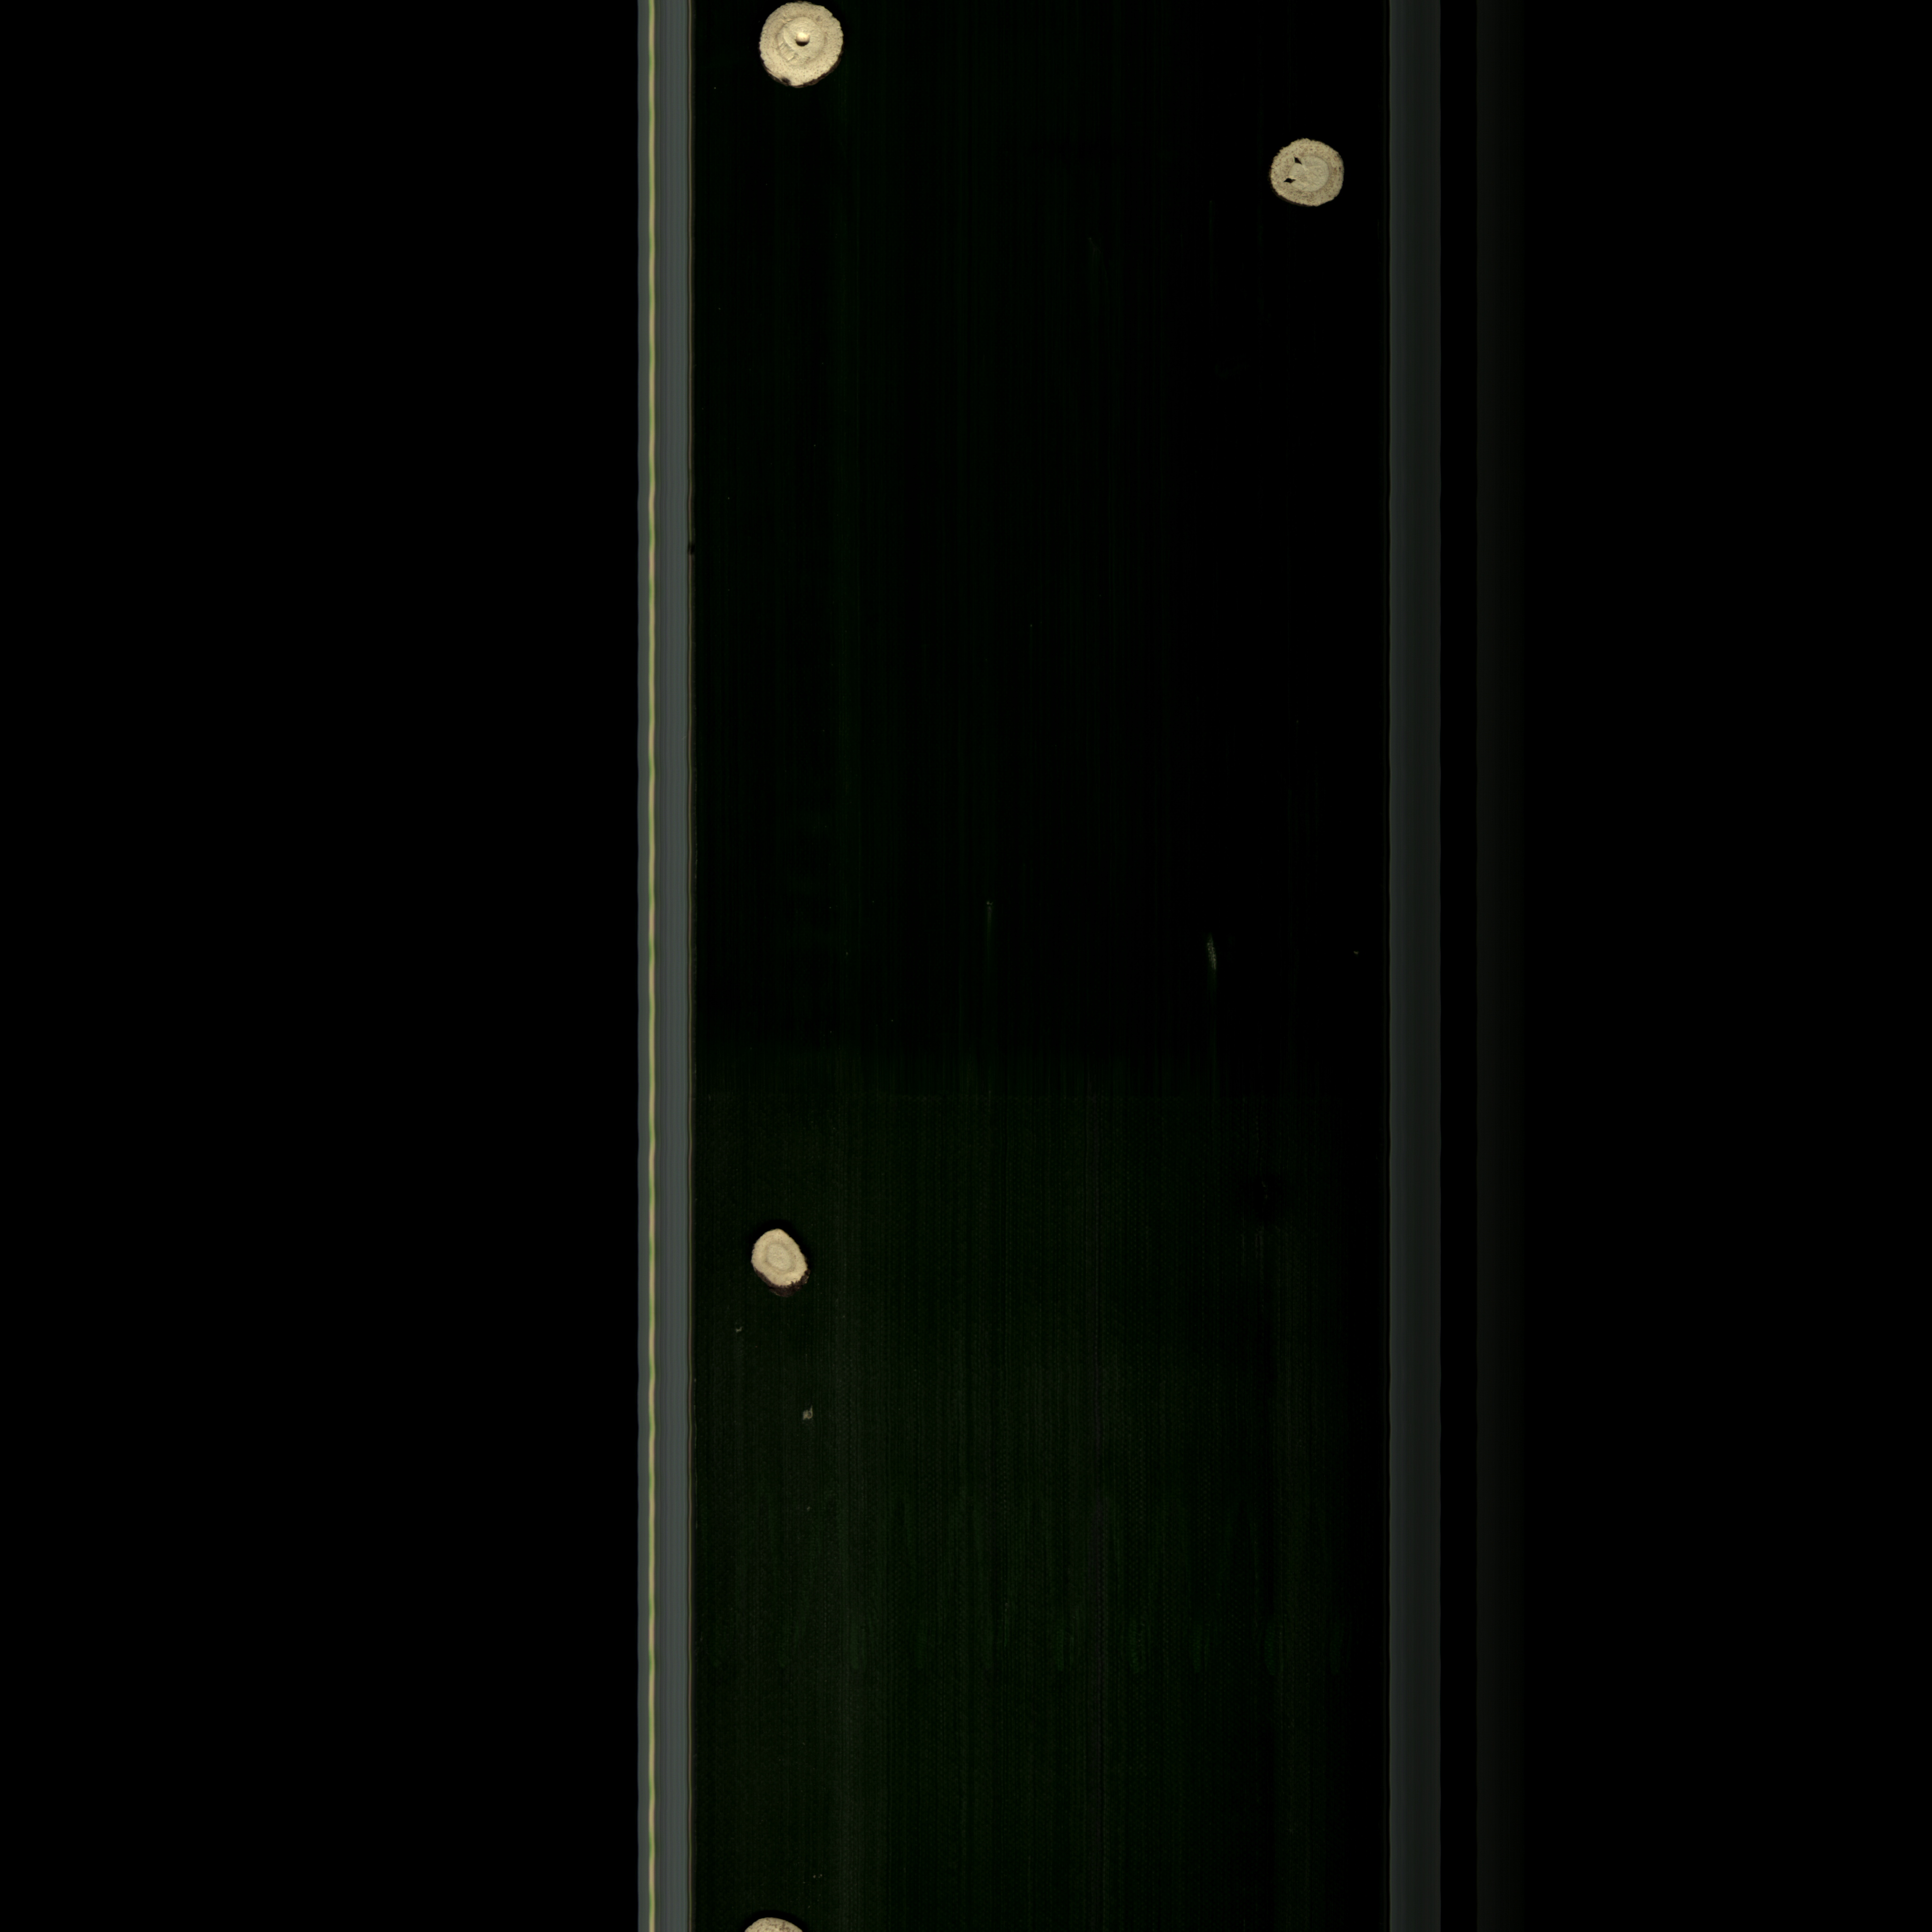hole: (750, 2, 865, 88), (1260, 133, 1361, 216)
